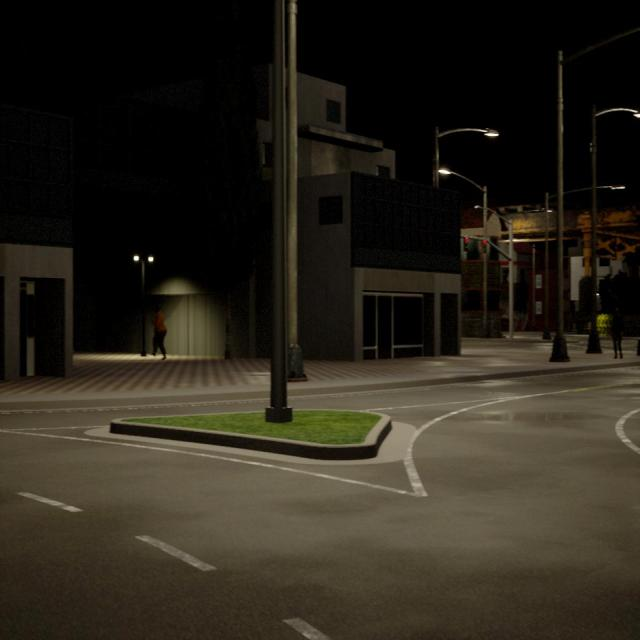Pedestrian: (610, 307, 624, 359), (153, 305, 166, 359)
traffic_light: (464, 238, 468, 250), (483, 240, 486, 253)
